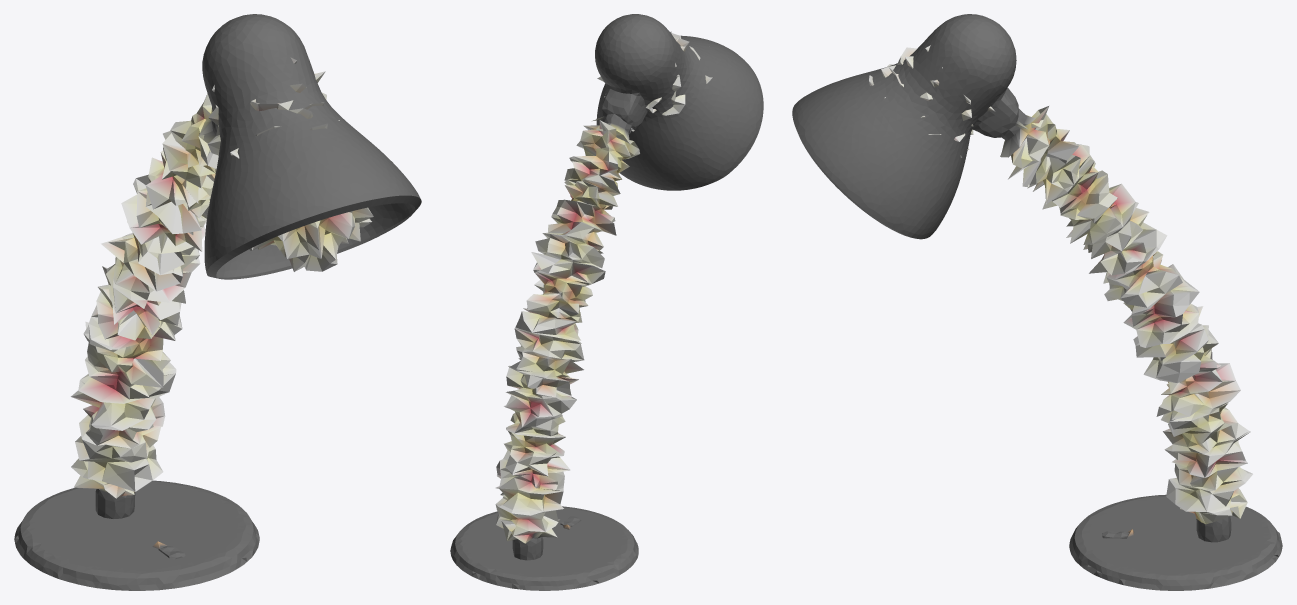
Rendered from lamp3_final200.obj.
The picture shows the model from 3 angles, left to right: view 1: azimuth 30°, elevation 25°; view 2: azimuth 150°, elevation 25°; view 3: azimuth 270°, elevation 25°; orthographic projection. The views are drawn at different scales.
Size of the model in its own units: 0.568 by 1.55 by 1.31.
